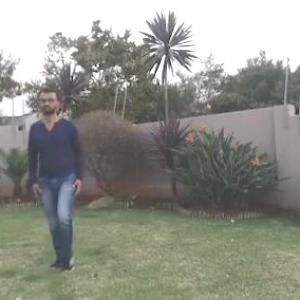follow: (36, 91, 83, 258)
